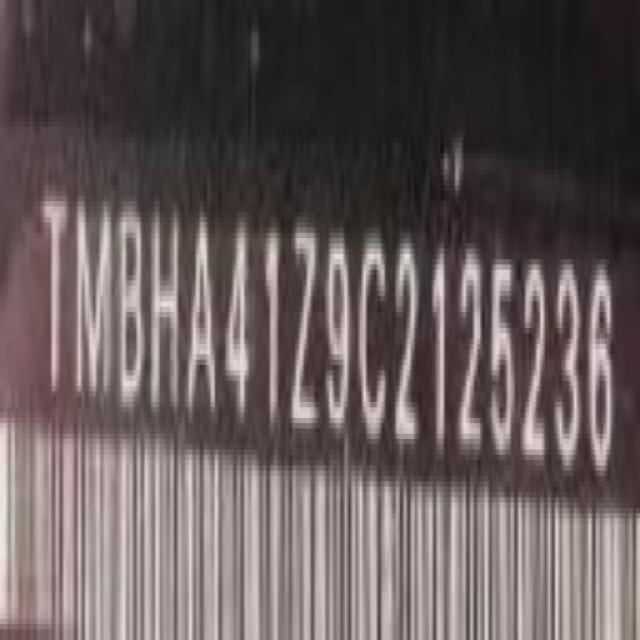1: (261, 206, 284, 439), (430, 241, 449, 465)
2: (394, 228, 422, 464), (456, 239, 482, 472), (523, 250, 549, 474)
3: (552, 254, 582, 480)
4: (225, 215, 252, 440)
5: (491, 239, 518, 469)
6: (590, 255, 621, 485)
9: (325, 216, 351, 450)
A: (186, 204, 217, 432)
B: (117, 196, 145, 401)
C: (358, 226, 389, 454)
H: (152, 196, 182, 423)
T: (42, 190, 70, 404)
W: (74, 191, 114, 414)
Z: (290, 216, 318, 450)
